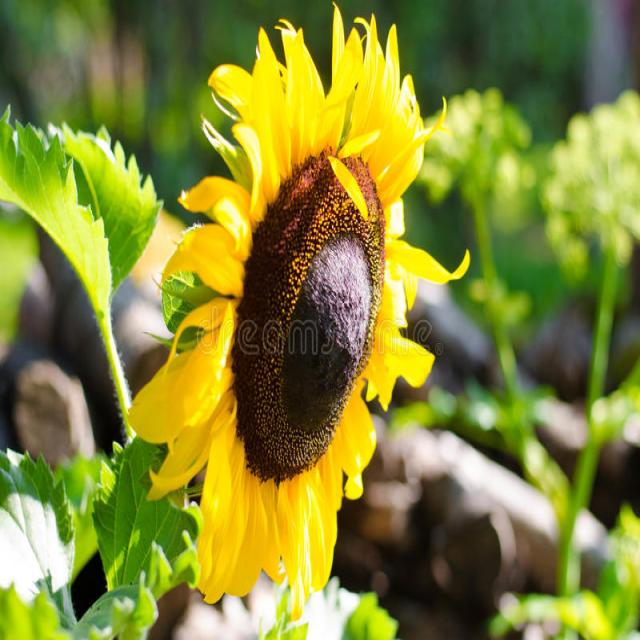sunflower: (148, 13, 454, 615)
